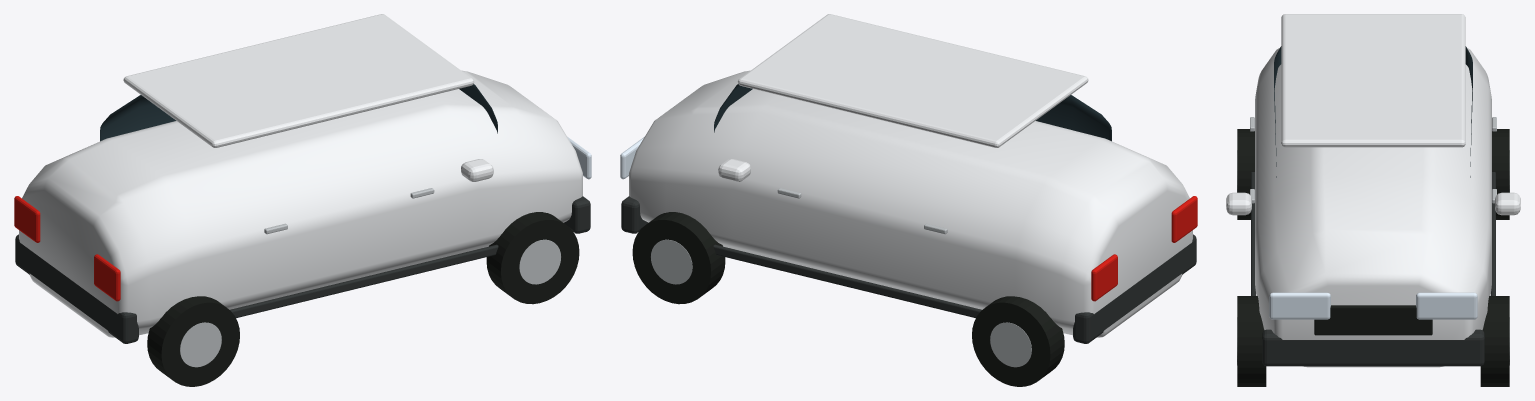
Rendered from vehicle.glb.
3 renders of one model, left to right at view 1: azimuth 30°, elevation 25°; view 2: azimuth 150°, elevation 25°; view 3: azimuth 270°, elevation 25°, orthographic.
Visible parts, largest first — view 1: Sculpted body, Roof, Cylinder, Cylinder.004, Rear bumper, Sill, Glasshouse, Cylinder.001, Cylinder.005, Tail lamp, Tail lamp.001, Front bumper (+1 smaller); view 2: Sculpted body, Roof, Cylinder.002, Cylinder.006, Rear bumper, Sill.001, Glasshouse, Cylinder.003, Cylinder.007, Tail lamp.001, Tail lamp, Front bumper (+1 smaller); view 3: Sculpted body, Roof, Front bumper, Grille, Cylinder.004, Cylinder.006, Headlamp, Headlamp.001, Cylinder, Cylinder.002, Mirror, Mirror.001 (+3 smaller).
Boxes of the visible parts, left/top/right/bottom form: Sculpted body: left=19, top=70, right=582, bottom=337; Roof: left=123, top=14, right=473, bottom=147; Cylinder: left=147, top=296, right=239, bottom=386; Cylinder.004: left=486, top=212, right=579, bottom=304; Rear bumper: left=15, top=234, right=138, bottom=343; Sill: left=230, top=244, right=498, bottom=318; Glasshouse: left=100, top=84, right=497, bottom=141; Cylinder.001: left=180, top=322, right=221, bottom=367; Cylinder.005: left=519, top=239, right=560, bottom=284; Tail lamp: left=94, top=254, right=120, bottom=301; Tail lamp.001: left=14, top=196, right=40, bottom=242; Front bumper: left=564, top=196, right=590, bottom=233; Sculpted body: left=629, top=70, right=1192, bottom=337; Roof: left=738, top=14, right=1088, bottom=147; Cylinder.002: left=972, top=296, right=1064, bottom=386; Cylinder.006: left=632, top=212, right=725, bottom=304; Rear bumper: left=1073, top=234, right=1196, bottom=343; Sill.001: left=713, top=244, right=981, bottom=318; Glasshouse: left=714, top=84, right=1111, bottom=141; Cylinder.003: left=990, top=322, right=1031, bottom=367; Cylinder.007: left=651, top=239, right=692, bottom=284; Tail lamp.001: left=1091, top=254, right=1117, bottom=301; Tail lamp: left=1171, top=196, right=1197, bottom=242; Front bumper: left=621, top=196, right=648, bottom=233; Sculpted body: left=1255, top=48, right=1491, bottom=367; Roof: left=1281, top=14, right=1465, bottom=147; Front bumper: left=1262, top=329, right=1484, bottom=366; Grille: left=1314, top=305, right=1432, bottom=335; Cylinder.004: left=1237, top=296, right=1266, bottom=386; Cylinder.006: left=1480, top=296, right=1509, bottom=386; Headlamp: left=1269, top=292, right=1330, bottom=319; Headlamp.001: left=1416, top=292, right=1477, bottom=319; Cylinder: left=1237, top=129, right=1254, bottom=219; Cylinder.002: left=1492, top=129, right=1509, bottom=219; Mirror: left=1226, top=192, right=1251, bottom=215; Mirror.001: left=1495, top=192, right=1520, bottom=215.
Size of what is drawn, in the model's own units: 3.45 by 1.52 by 1.83.
